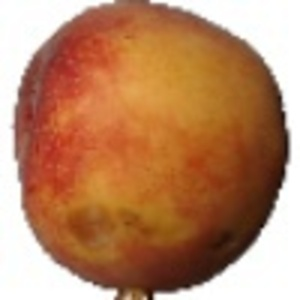pêssego: (11, 1, 291, 300)
